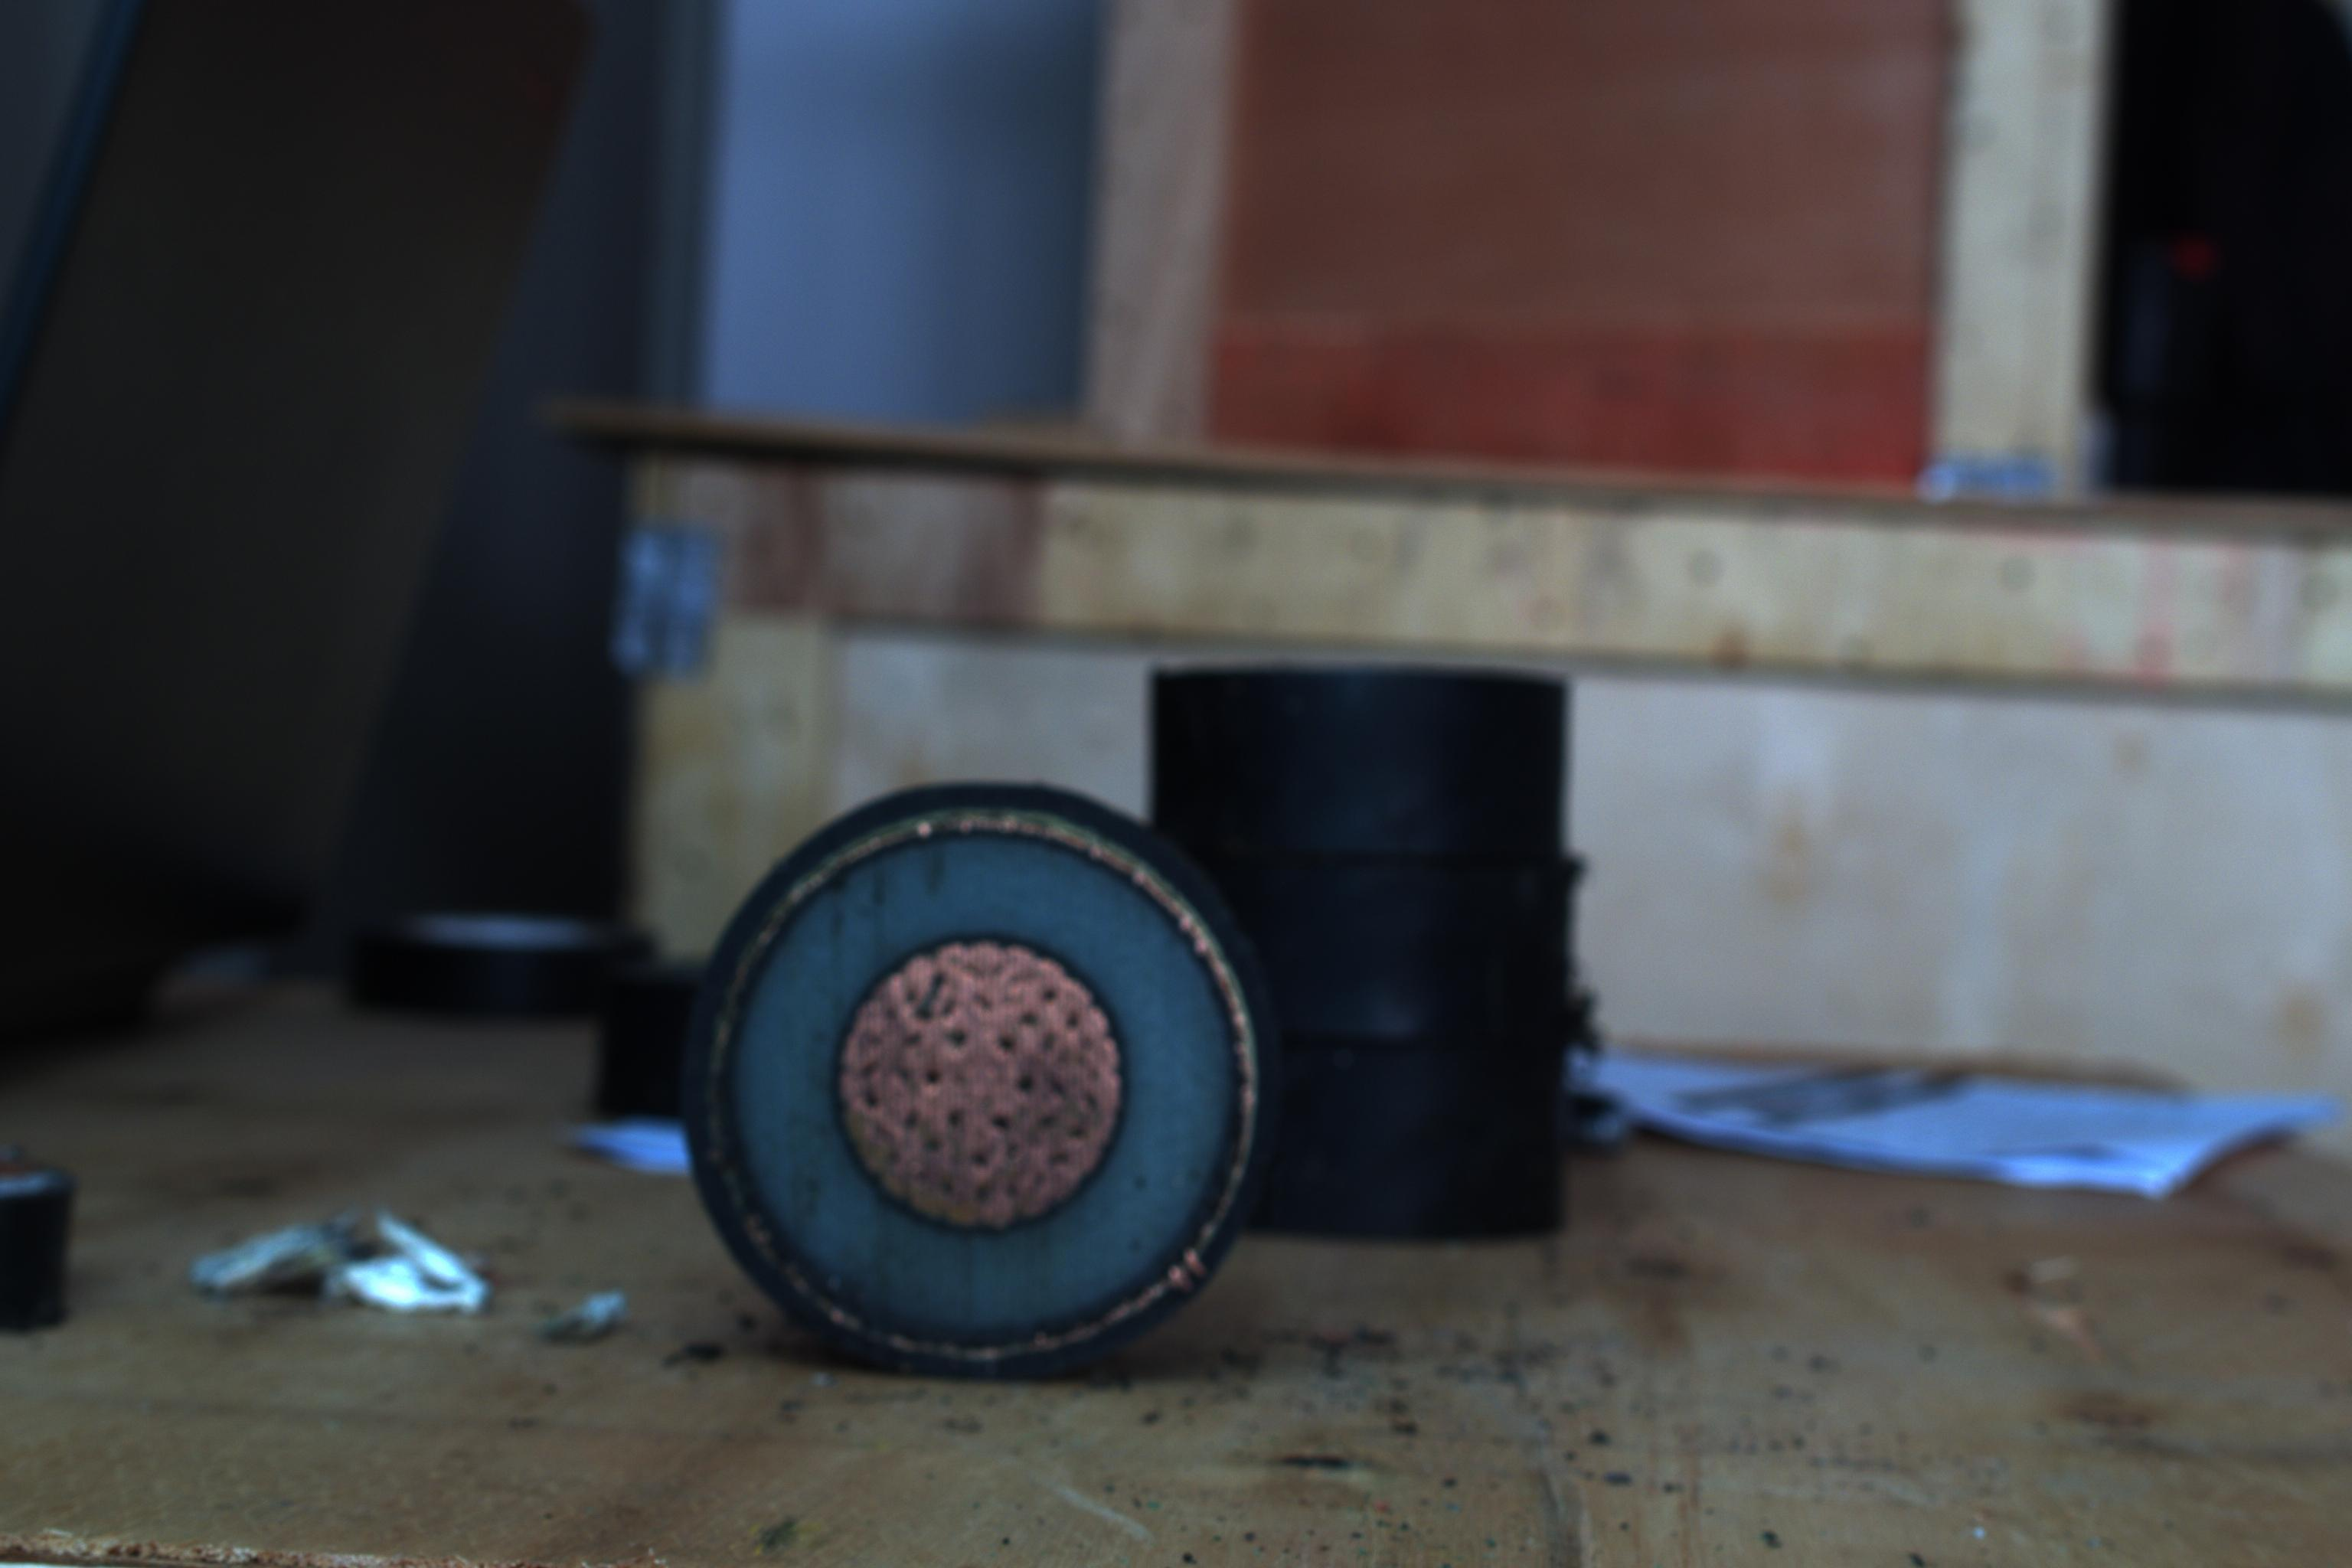YJV_26_35kV_1x630: (686, 759, 1283, 1382)
